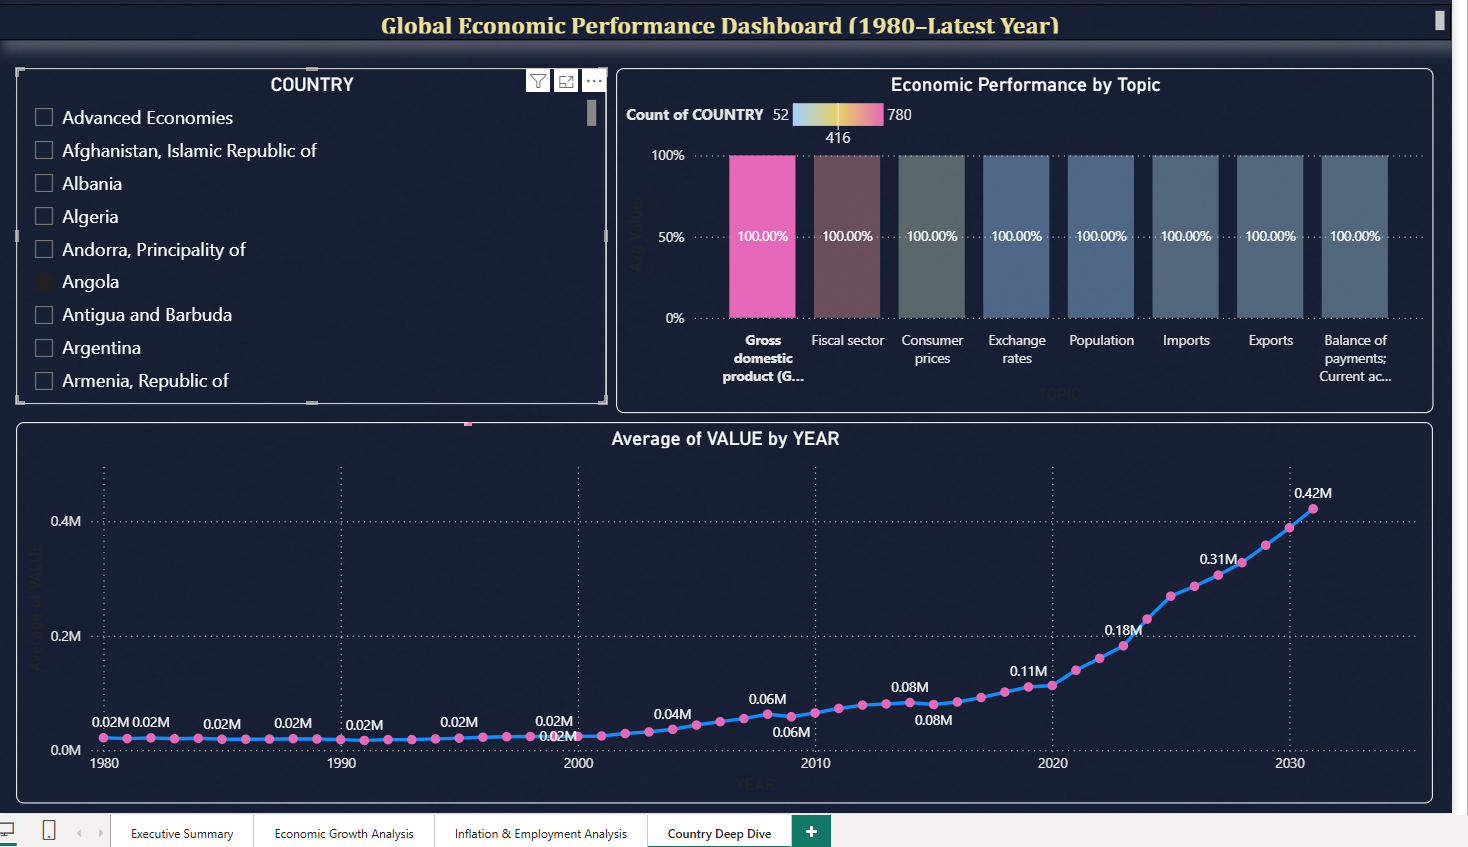

This screenshot's page, from the dashboard's own definition file:
{"tool":"powerbi","page":{"name":"Country Deep Dive","canvas":[1280,720],"ordinal":3},"visuals":[{"type":"textbox","box":[0,8,1280,32],"z":0},{"type":"slicer","title":"COUNTRY","fields":{"Values":["weo_clean.COUNTRY"]},"box":[16,64,496,128],"z":1000},{"type":"lineChart","title":"Economic Indicator Trend","fields":{"Category":["weo_clean.YEAR"],"Y":["weo_clean.Avg Value"]},"box":[16,208,520,208],"z":5000},{"type":"treemap","title":"Indicator Breakdown","fields":{"Group":["weo_clean.INDICATOR"],"Values":["weo_clean.Avg Value"]},"box":[16,432,520,272],"z":6000},{"type":"hundredPercentStackedColumnChart","title":"Economic Performance by Topic","fields":{"Category":["weo_clean.TOPIC"],"Y":["weo_clean.Avg Value"]},"box":[544,64,720,352],"z":7000},{"type":"lineChart","fields":{"Category":["weo_clean.YEAR"],"Y":["Avg(weo_clean.VALUE)"]},"box":[544,432,720,272],"z":8000}]}

Visuals, with their boxes on the page's 1280x720 design canvas (x1, y1, x2, y2). These are canvas units, not pixel positions in the 1468x847 screenshot, which may show the page scaled, cropped or inside an application window:
textbox: 0/8/1280/40
"COUNTRY" slicer: 16/64/512/192
"Economic Indicator Trend" lineChart: 16/208/536/416
"Indicator Breakdown" treemap: 16/432/536/704
"Economic Performance by Topic" hundredPercentStackedColumnChart: 544/64/1264/416
lineChart - weo_clean.YEAR x Avg(weo_clean.VALUE): 544/432/1264/704
